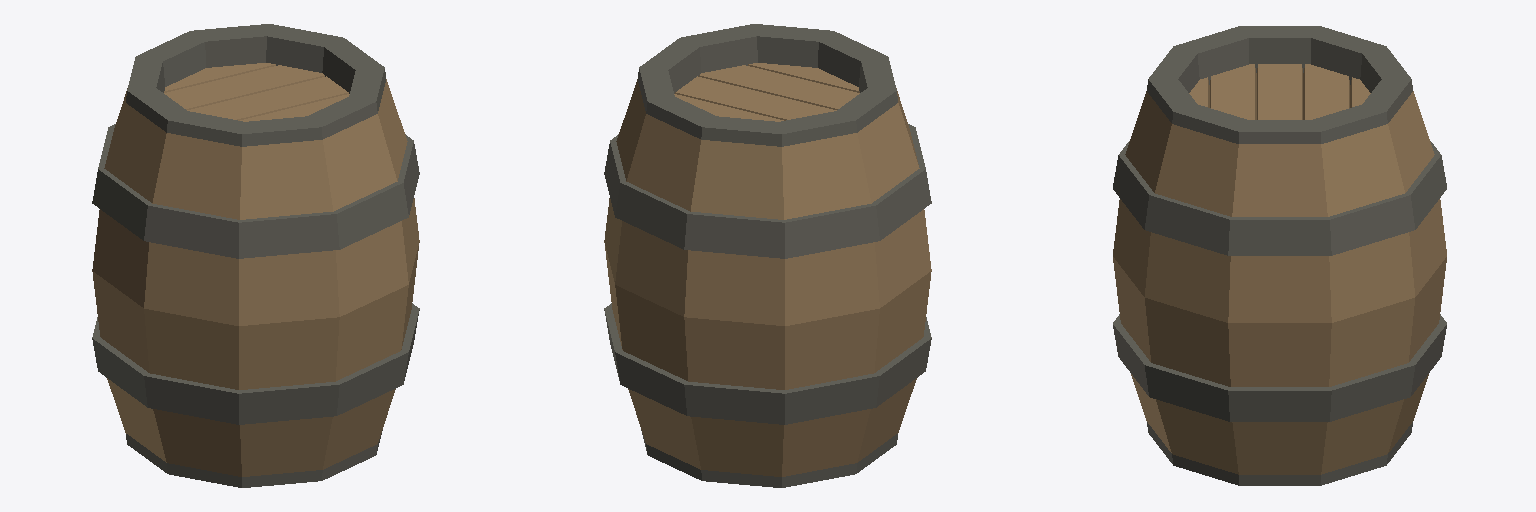
File: Prop_Barrel_2.obj
3 renders of one model, left to right at view 1: azimuth 30°, elevation 25°; view 2: azimuth 150°, elevation 25°; view 3: azimuth 270°, elevation 25°, orthographic.
Visible parts, largest first — view 1: object1; view 2: object1; view 3: object1.
Boxes of the visible parts, <box> form: object1: <box>92,24,419,487</box>; object1: <box>604,24,931,487</box>; object1: <box>1113,26,1446,485</box>.
Size of the model in its own units: 0.4818 by 0.5906 by 0.5066.